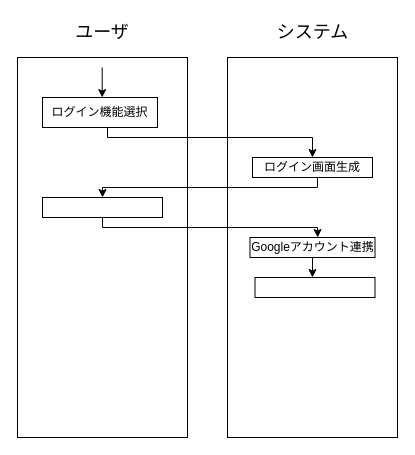
The diagram is 415 pixels wide and 455 high, and some of its shapes have lost their labels. Here are the shapes that lost their labels. From the top down, the box of each, then its label:
(42, 196, 162, 218): ログイン情報記入
(254, 276, 375, 298): ホーム画面生成
